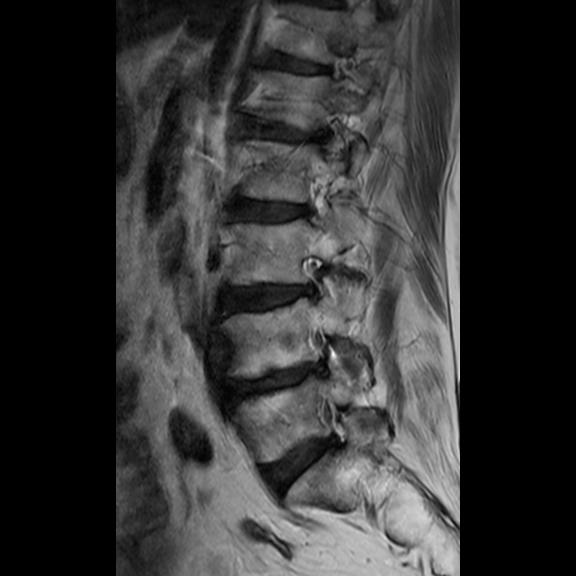RFS1: (291, 246, 345, 311)
